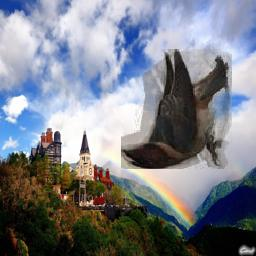Swallow: (122, 49, 233, 169)
